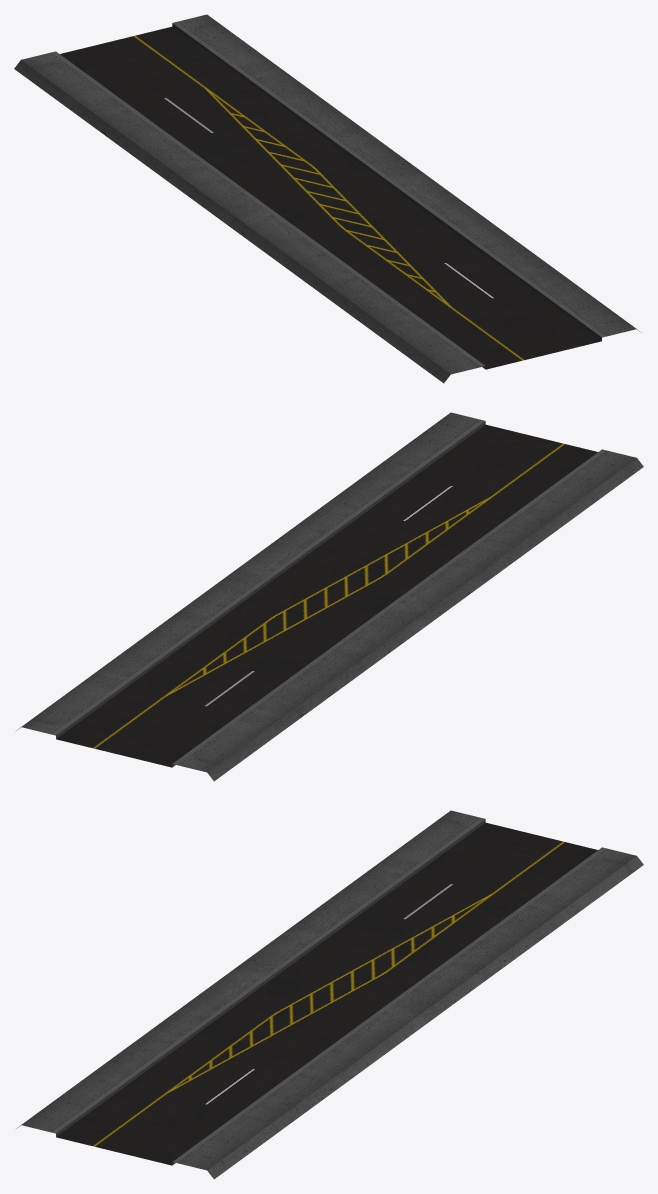
Rendered from RJs_Road 1+2 Basic Segment_2_lod.fbx.
3 renders of one model, top to bottom at view 1: azimuth 30°, elevation 25°; view 2: azimuth 150°, elevation 25°; view 3: azimuth 330°, elevation 25°, orthographic.
Visible parts, largest first — view 1: plane; view 2: plane; view 3: plane.
Boxes of the visible parts, x1,y1,x2,y2 form: plane: (14, 14, 641, 383); plane: (16, 412, 643, 781); plane: (16, 810, 643, 1179).
Size of the model in its own units: 1720 by 60.1 by 6400.
